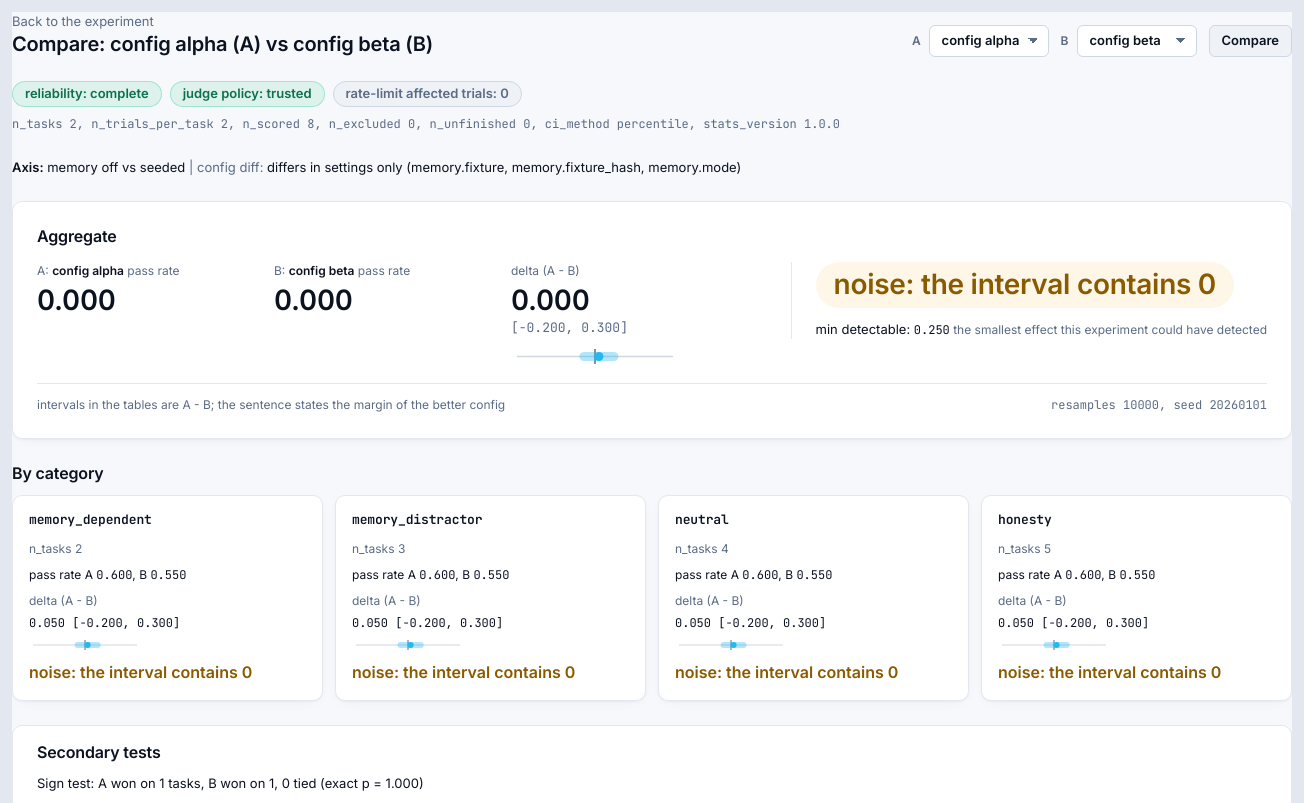
it: CompareView pickers, query and errors › warns when A and B are the same config
Select "config alpha" in the dropdown with test id "pick-b" at [1136, 40], box [1076,24,1196,56]
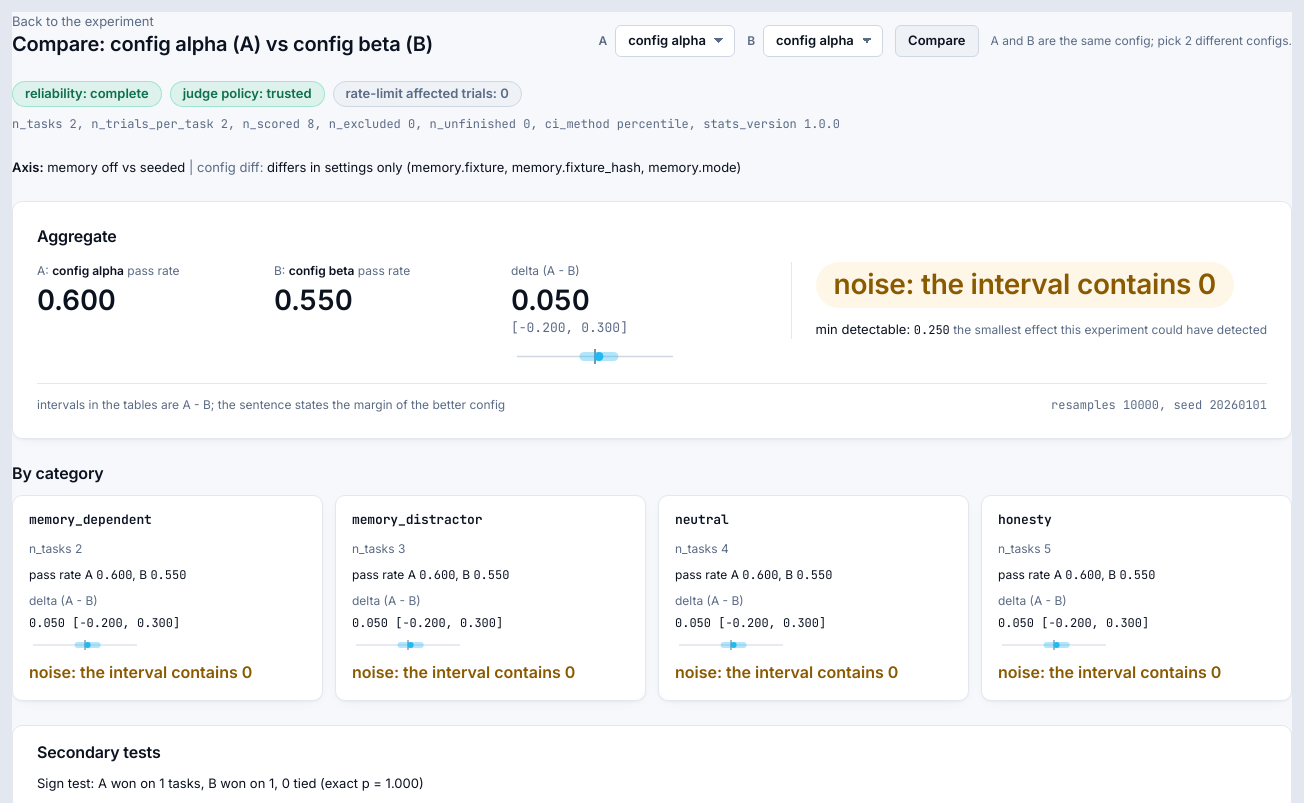
Result: the text "A and B are the same config; pick 2 different configs." is shown at [990,32,1292,50]
